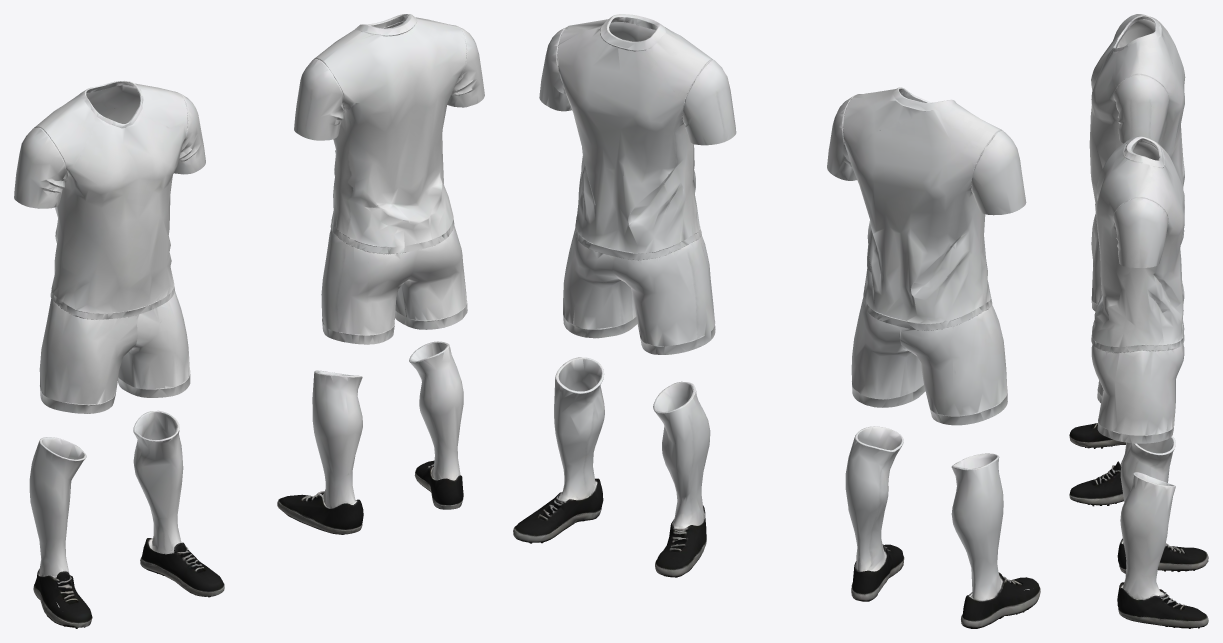
Rendered from base_basic_pbr.glb.
3 views of the same model, side by side, from view 1: azimuth 30°, elevation 25°; view 2: azimuth 150°, elevation 25°; view 3: azimuth 270°, elevation 25° (orthographic). The views are drawn at different scales.
Parts seen in each view (by area): view 1: model; view 2: model; view 3: model.
Part boxes in pixels (left/top/right/bottom): model: left=14, top=14, right=484, bottom=628; model: left=513, top=14, right=1040, bottom=628; model: left=1069, top=14, right=1208, bottom=628.
Size of the model in its own units: 1.85 by 1.91 by 0.5362.
1 material, 1 textured.
